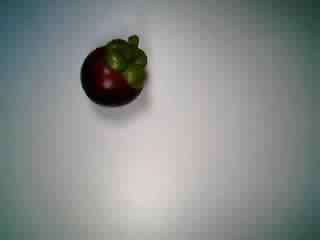mangosteen: (71, 31, 155, 112)
